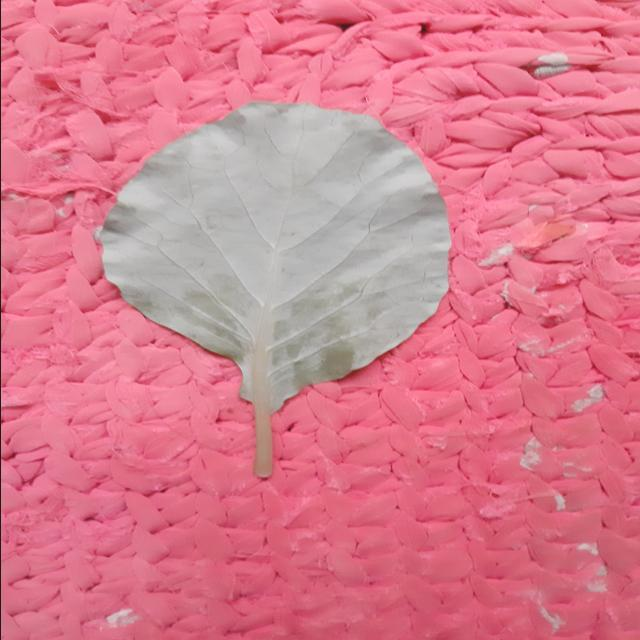leaf: (96, 99, 452, 477)
